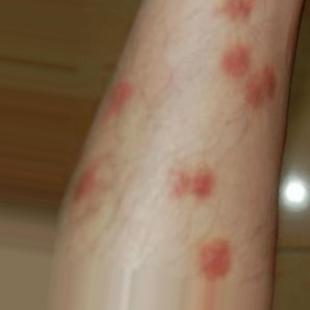Fleas: (243, 65, 277, 109), (64, 164, 105, 199), (219, 42, 254, 78), (199, 238, 229, 280), (190, 164, 211, 199), (220, 0, 254, 20), (109, 84, 128, 115), (171, 172, 193, 197)
